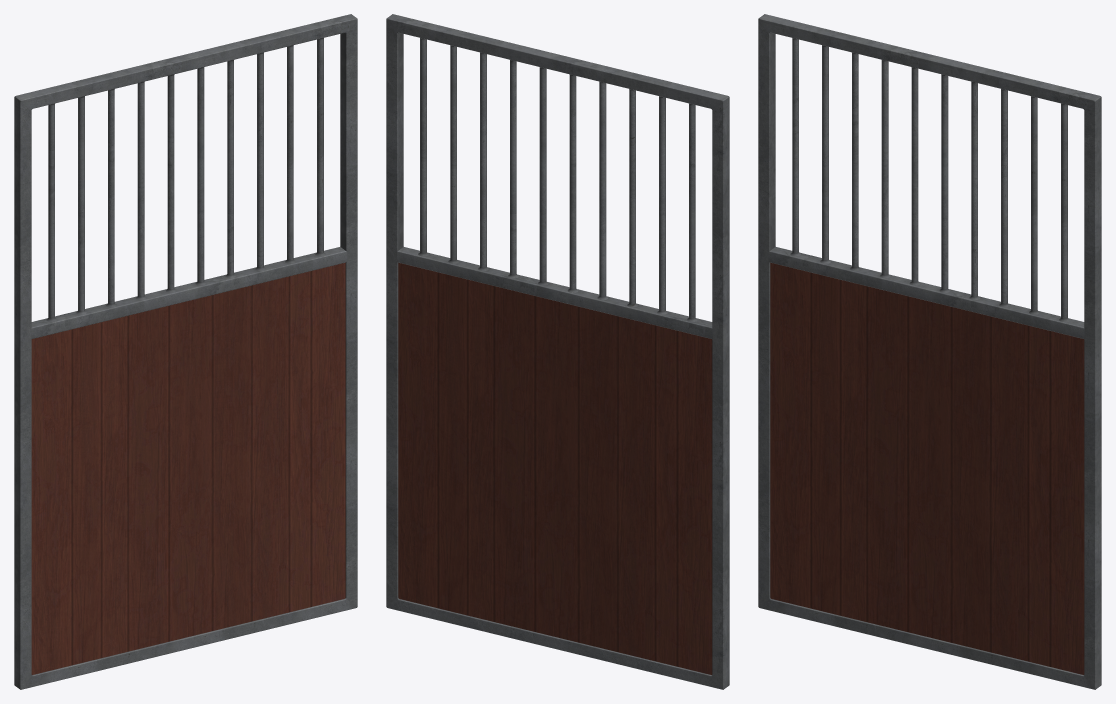
File: Pen_01_Straight_Narrow.fbx
3 views of the same model, side by side, from view 1: azimuth 30°, elevation 25°; view 2: azimuth 150°, elevation 25°; view 3: azimuth 330°, elevation 25° (orthographic).
Parts seen in each view (by area): view 1: Pen_01_Straight_Narrow; view 2: Pen_01_Straight_Narrow; view 3: Pen_01_Straight_Narrow.
Part boxes in pixels (x1,y1,x2,y2): Pen_01_Straight_Narrow: (14, 14, 357, 689); Pen_01_Straight_Narrow: (386, 14, 729, 689); Pen_01_Straight_Narrow: (758, 14, 1101, 689).
Size of the model in its own units: 150 by 250 by 5.
